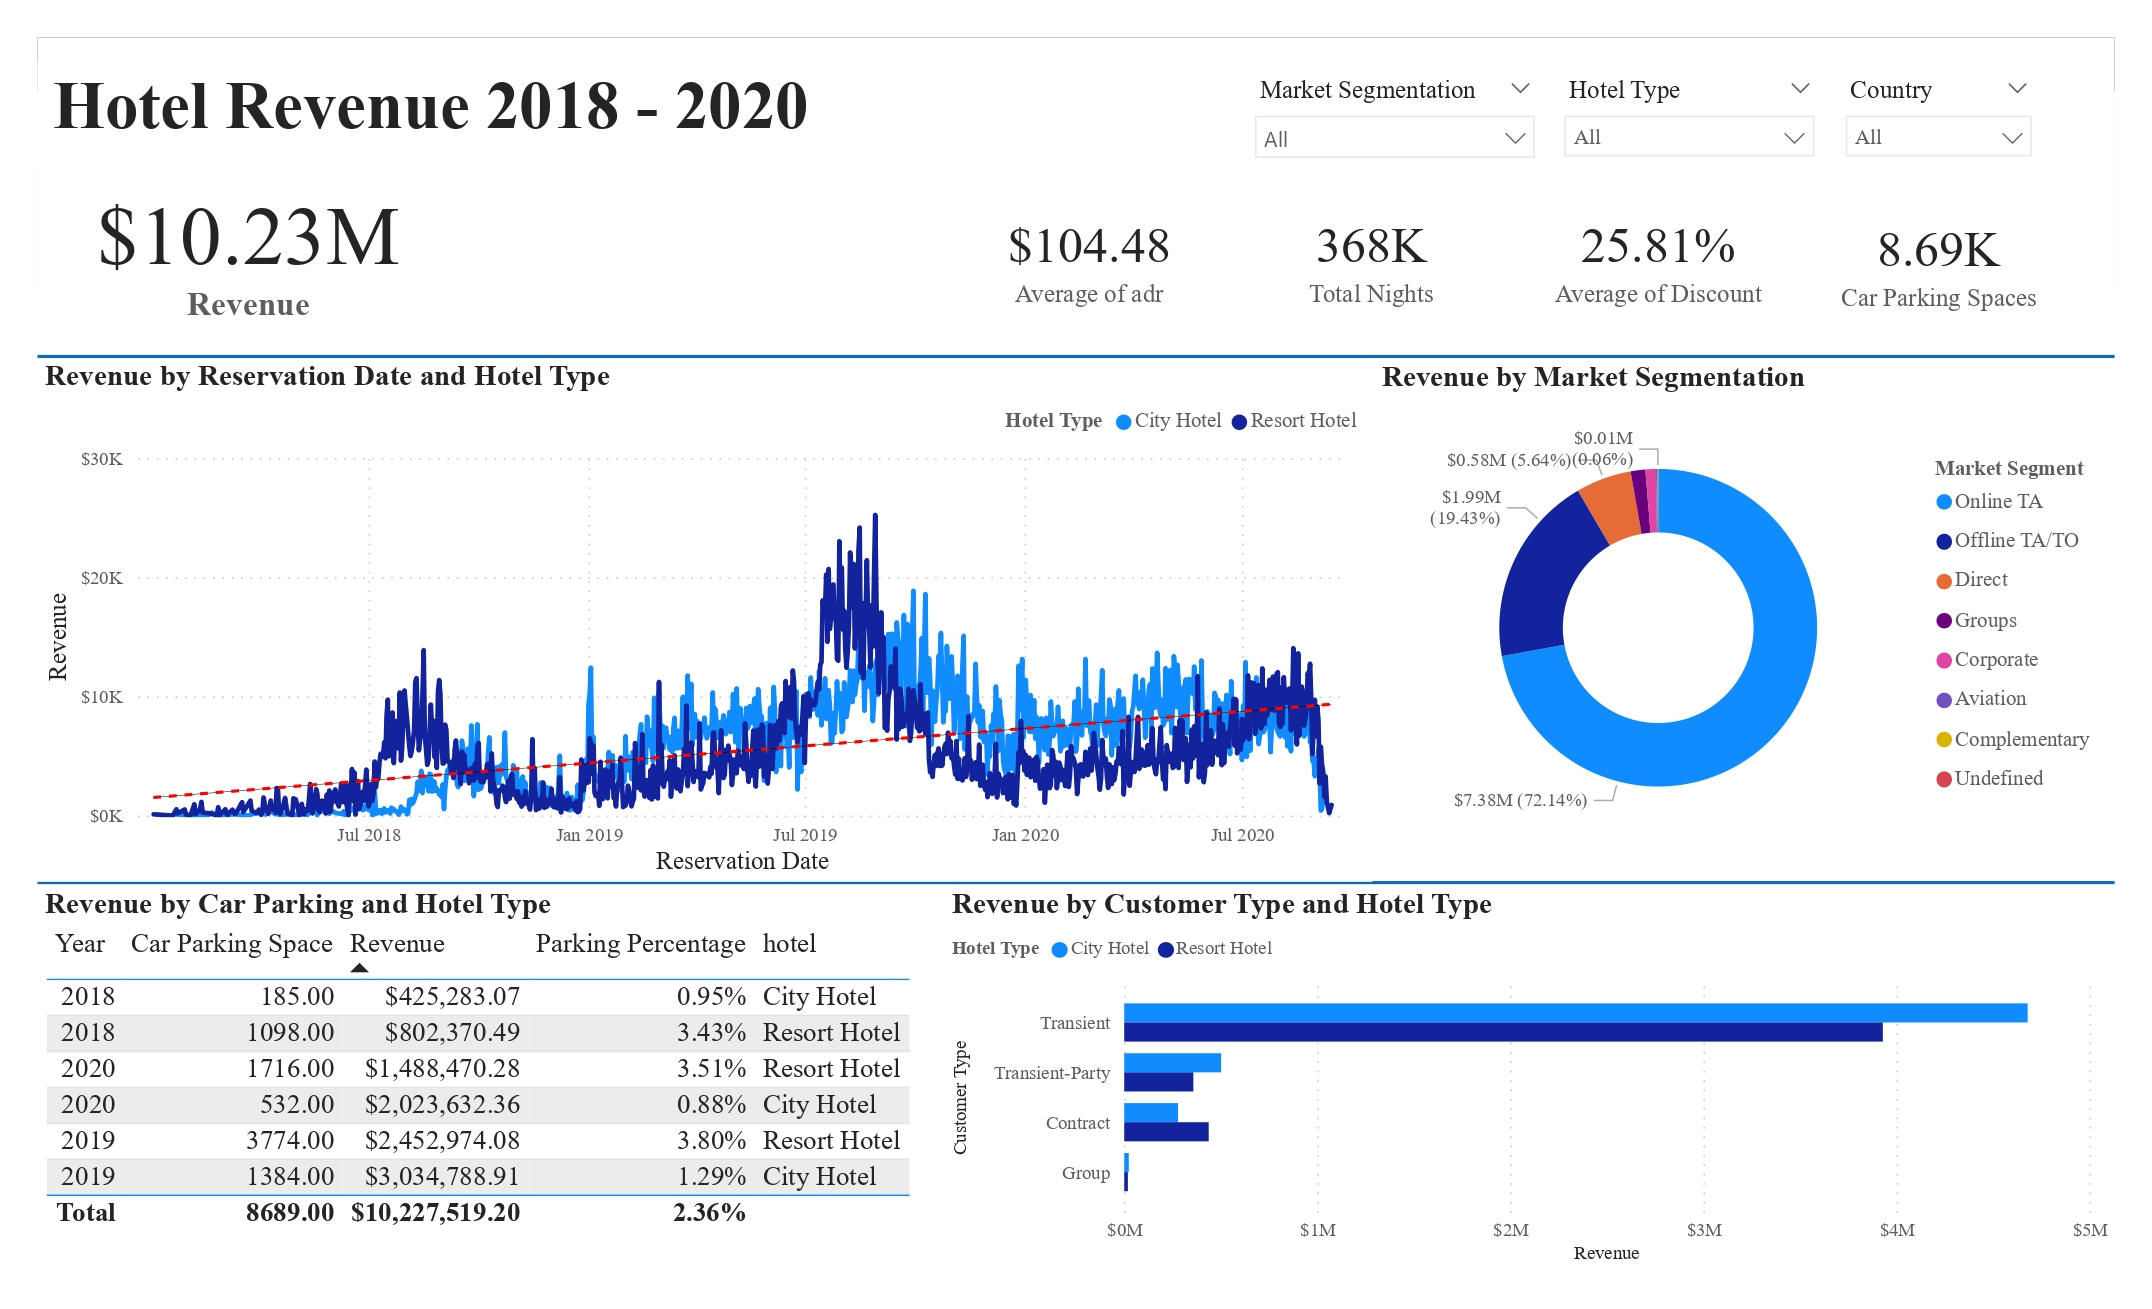

The page's visual inventory and layout, read from the dashboard file:
{"tool":"powerbi","page":{"name":"Page 1","canvas":[1329,789],"ordinal":0},"visuals":[{"type":"shape","box":[0,175.5,1329.8,56.7],"z":0},{"type":"card","title":"Revenue","fields":{"Values":["Sum(Query1.Revenue)"]},"box":[17.7,76.2,234,111.7],"z":1000},{"type":"shape","box":[0,512.4,1329.8,56.7],"z":2000},{"type":"card","fields":{"Values":["Avg(Query1.adr)"]},"box":[579.9,84,186.6,112.6],"z":3000},{"type":"card","fields":{"Values":["Query1.Total Nights"]},"box":[766.5,84,174.8,112.6],"z":4000},{"type":"card","fields":{"Values":["Avg(Query1.Discount)"]},"box":[941.3,84,191.6,112.6],"z":5000},{"type":"lineChart","fields":{"Category":["Query1.reservation_status_date"],"Y":["Sum(Query1.Revenue)"],"Series":["Query1.hotel"]},"box":[0,205.1,853.9,334.5],"z":6000},{"type":"slicer","fields":{"Values":["Query1.country"]},"box":[1146.8,19.9,139.5,63.9],"z":7000},{"type":"slicer","fields":{"Values":["Query1.hotel"]},"box":[966.9,19.9,179.9,63.9],"z":8000},{"type":"card","fields":{"Values":["Sum(Query1.required_car_parking_spaces)"]},"box":[1112.8,84,206.8,117.7],"z":9000},{"type":"textbox","box":[0,13.6,502.9,69.7],"z":10000},{"type":"donutChart","fields":{"Category":["Query1.market_segment"],"Y":["Sum(Query1.Revenue)"]},"box":[854.6,205.7,475.2,322.7],"z":11000},{"type":"slicer","fields":{"Values":["Query1.market_segment"]},"box":[769,19.5,198.8,64.6],"z":12000},{"type":"clusteredBarChart","fields":{"Category":["Query1.customer_type"],"Y":["Sum(Query1.Revenue)"],"Series":["Query1.hotel"]},"box":[579.8,542.5,750,246.5],"z":13000},{"type":"tableEx","title":"Revenue by Car Parking and Hotel Type","fields":{"Values":["Query1.reservation_status_date.Variation.Date Hierarchy.Year","Sum(Query1.required_car_parking_spaces)","Sum(Query1.Revenue)","Query1.Parking Percentage","Query1.hotel"]},"box":[0,542.5,579.8,246.5],"z":14000}]}

Visuals, with their boxes in screenshot pixels (x1, y1, x2, y2):
shape: (38,312,2114,401)
"Revenue" card: (65,157,431,331)
shape: (38,839,2114,928)
card - Avg(Query1.adr): (944,169,1235,345)
card - Query1.Total Nights: (1235,169,1509,345)
card - Avg(Query1.Discount): (1509,169,1808,345)
lineChart - Query1.reservation_status_date x Sum(Query1.Revenue): (38,358,1372,881)
slicer - Query1.country: (1830,69,2048,169)
slicer - Query1.hotel: (1549,69,1830,169)
card - Sum(Query1.required_car_parking_spaces): (1777,169,2100,353)
textbox: (38,59,823,168)
donutChart - Query1.market_segment x Sum(Query1.Revenue): (1373,359,2114,864)
slicer - Query1.market_segment: (1239,68,1550,169)
clusteredBarChart - Query1.customer_type x Sum(Query1.Revenue): (944,886,2114,1271)
"Revenue by Car Parking and Hotel Type" tableEx: (38,886,944,1271)
